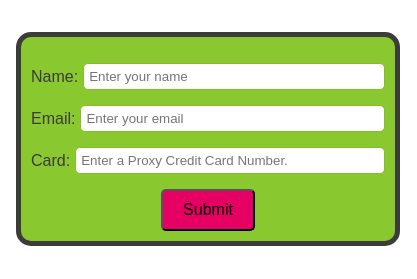
Test: FormComponent › displays error message for invalid email input
Type "invalid-email" into the field labelled "Email:".
click(233, 118); type("invalid-email")  # box top-left (80, 105), bottom-right (385, 132)
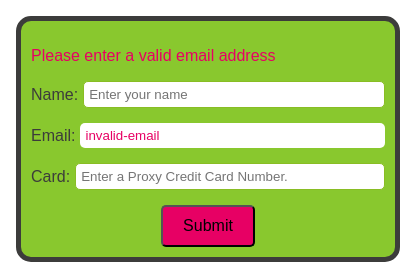
expect the list item "Please enter a valid email address" is shown: met, box top-left (31, 47), bottom-right (276, 64)
